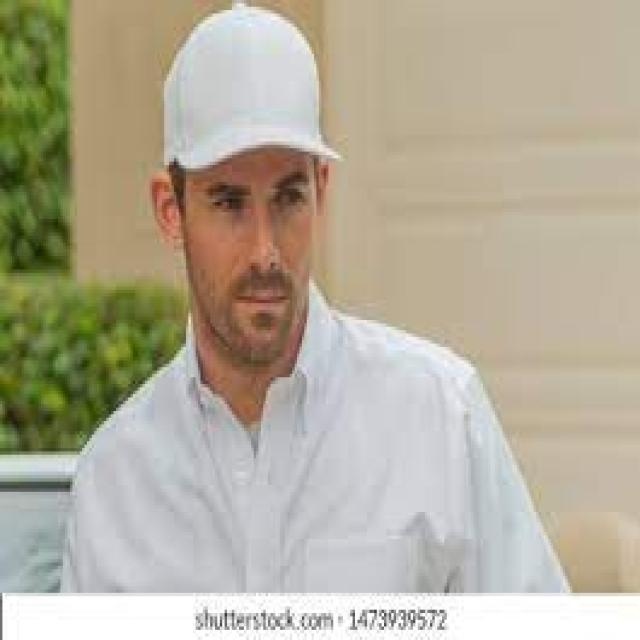3_gorra: (150, 3, 350, 175)
